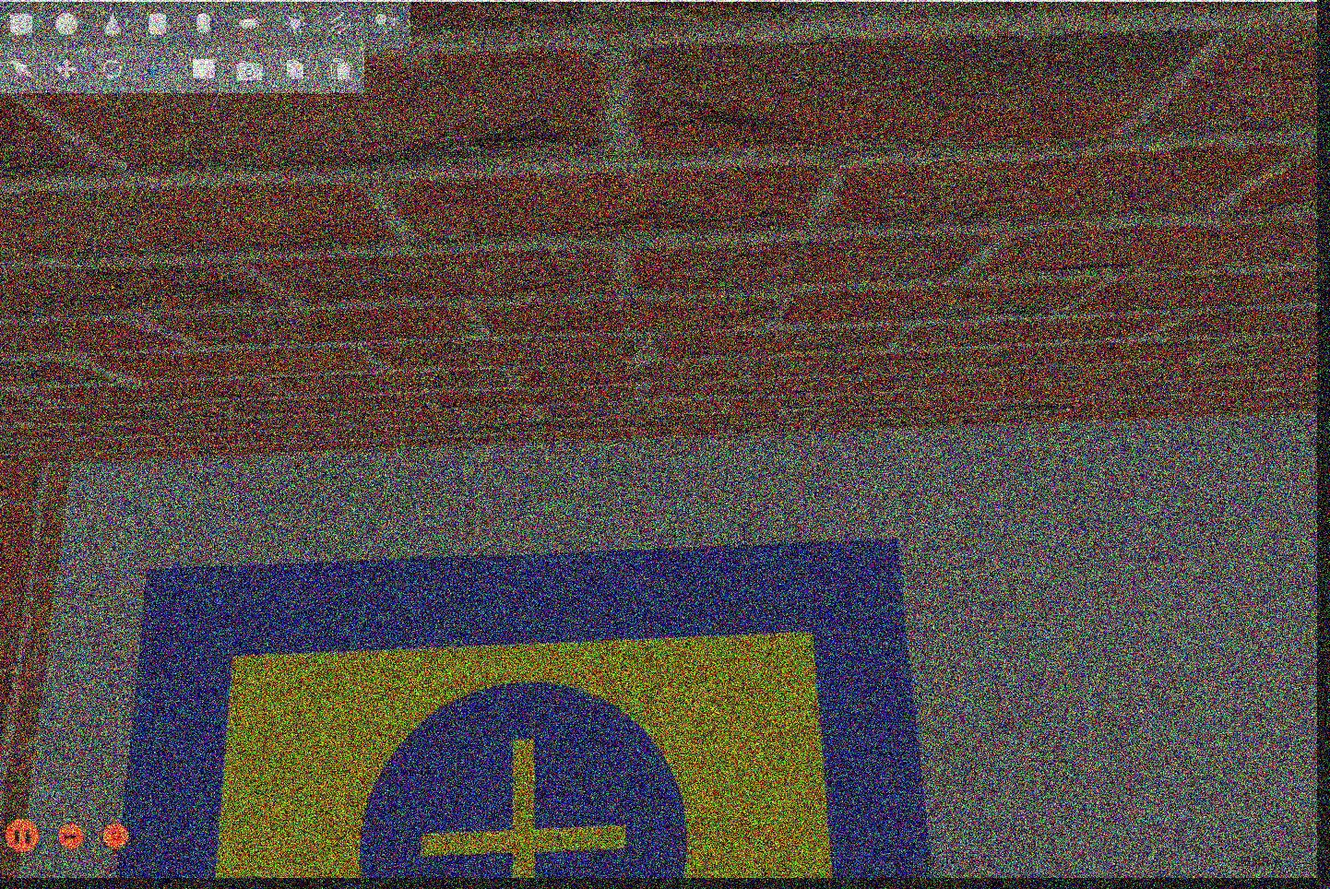large_base: (118, 535, 935, 880)
